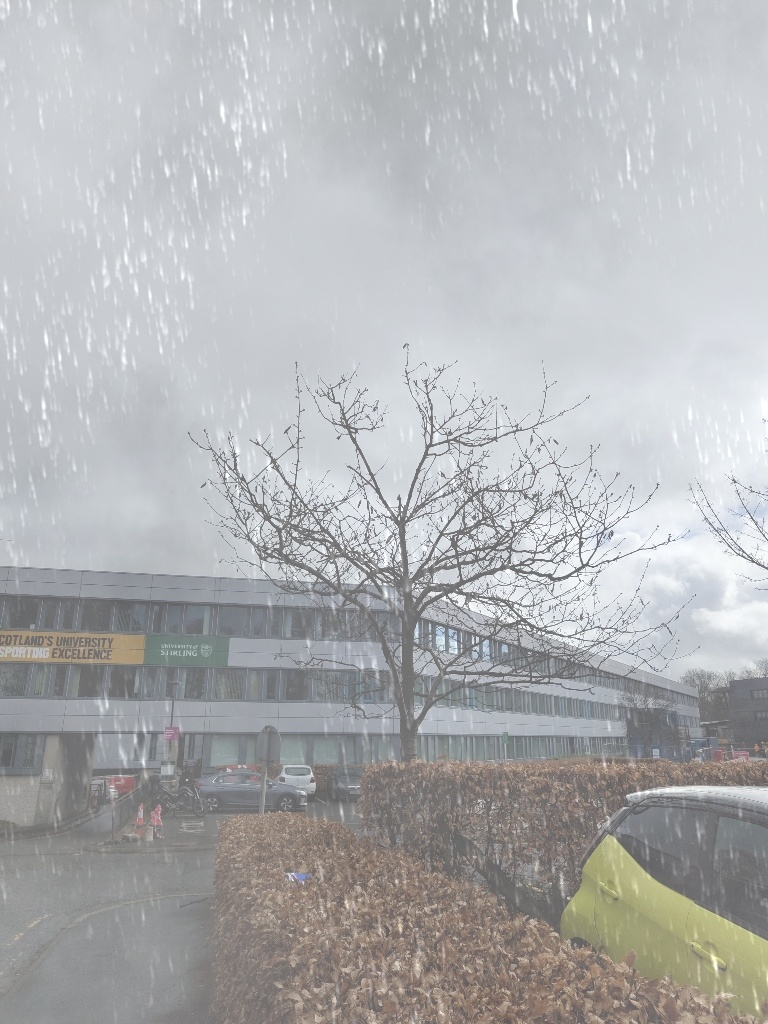Tree: (184, 332, 703, 764)
